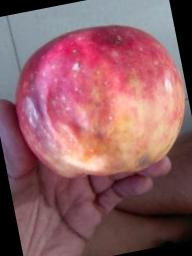Apple Rotten: (5, 10, 192, 193)
